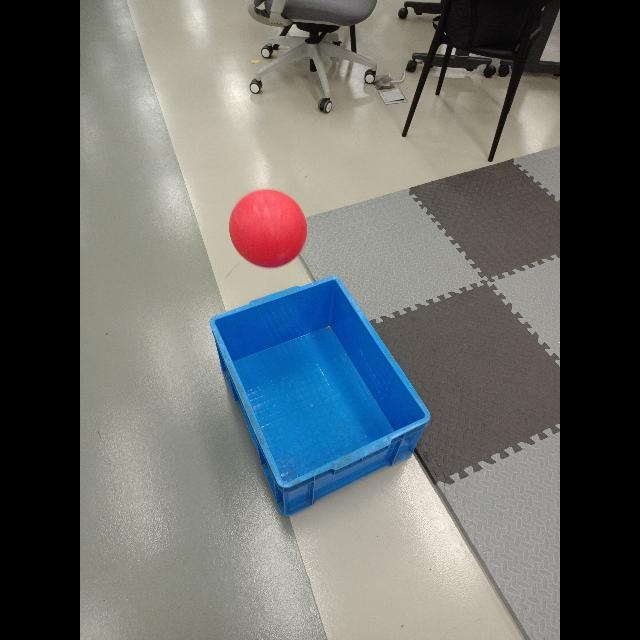R: (228, 188, 306, 268)
